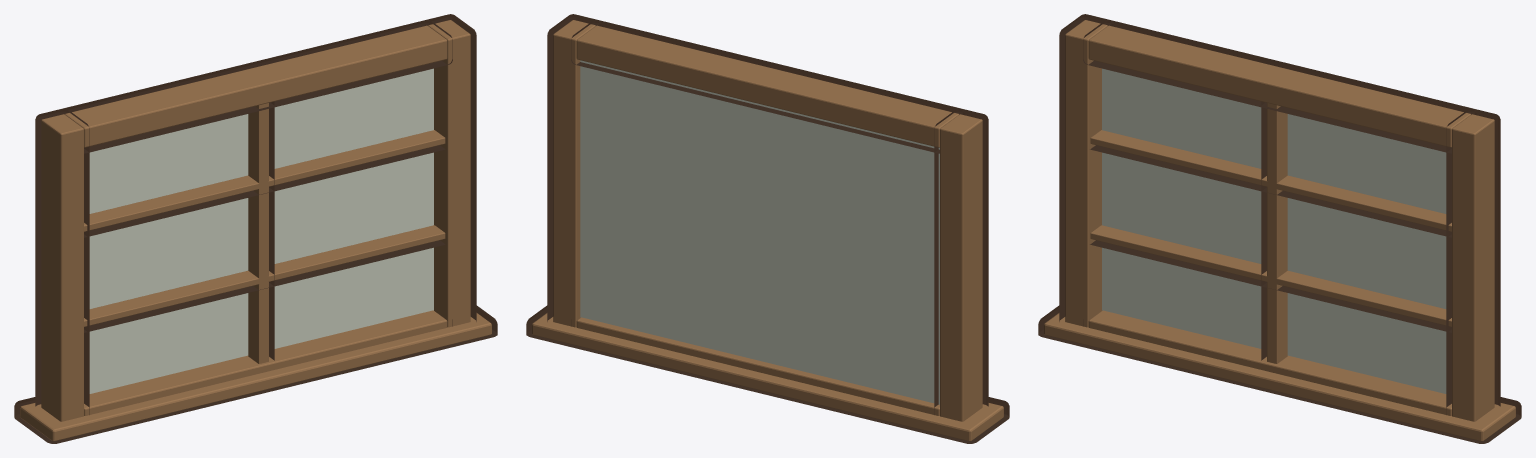
File: teahouse-window.glb
The picture shows the model from 3 angles, left to right: view 1: azimuth 30°, elevation 25°; view 2: azimuth 150°, elevation 25°; view 3: azimuth 330°, elevation 25°; orthographic projection.
Visible parts, largest first — view 1: teahouse-window, teahouse-window-outline; view 2: teahouse-window, teahouse-window-outline; view 3: teahouse-window, teahouse-window-outline.
Part boxes in pixels (x1,y1,x2,y2): teahouse-window: (20,20,491,441); teahouse-window-outline: (14,14,497,443); teahouse-window: (532,20,1003,441); teahouse-window-outline: (526,14,1009,443); teahouse-window: (1044,20,1515,441); teahouse-window-outline: (1038,14,1521,443).
Size of the model in its own units: 1.53 by 0.9972 by 0.2348.
